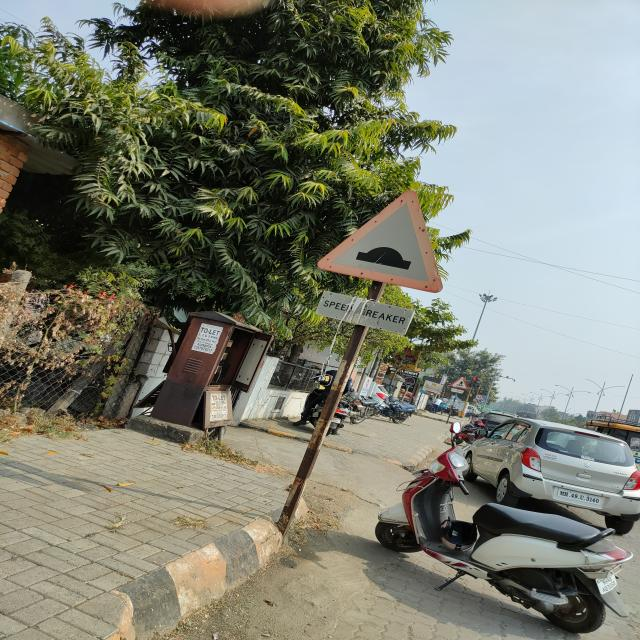HUMP_OR_ROUGH_ROAD: (308, 188, 448, 293)
